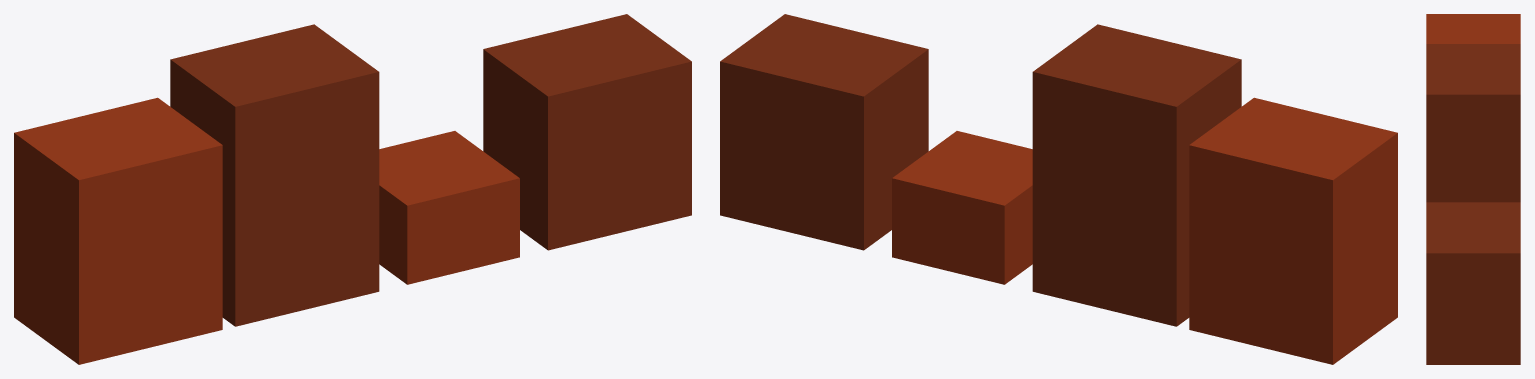
The model's file is ruined_brick_wall.glb.
3 renders of one model, left to right at view 1: azimuth 30°, elevation 25°; view 2: azimuth 150°, elevation 25°; view 3: azimuth 270°, elevation 25°, orthographic. The views are drawn at different scales.
Visible parts, largest first — view 1: ruined_brick_wall; view 2: ruined_brick_wall; view 3: ruined_brick_wall.
Boxes of the visible parts, <box> form: ruined_brick_wall: <box>14,14,691,364</box>; ruined_brick_wall: <box>720,14,1397,364</box>; ruined_brick_wall: <box>1426,14,1520,364</box>.
Size of the model in its own units: 6.27 by 2.15 by 1.15.
